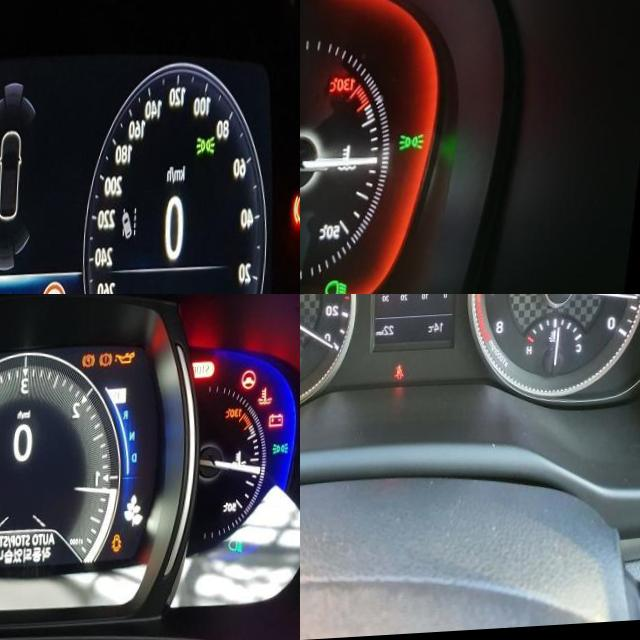Doors: (115, 538, 126, 556)
Engine cooling system: (260, 392, 275, 413)
Low beam: (328, 279, 354, 294), (232, 544, 247, 560)
SideLamp: (403, 134, 429, 156), (197, 141, 219, 162), (275, 448, 292, 462)
